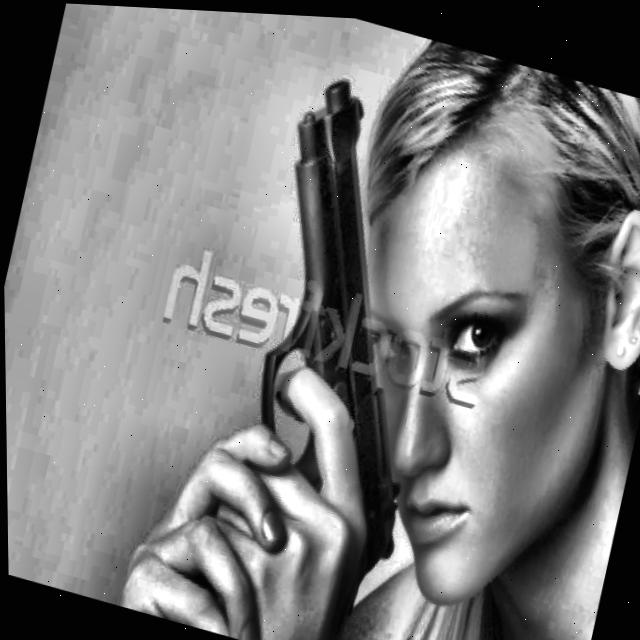pistol: (138, 24, 510, 631)
